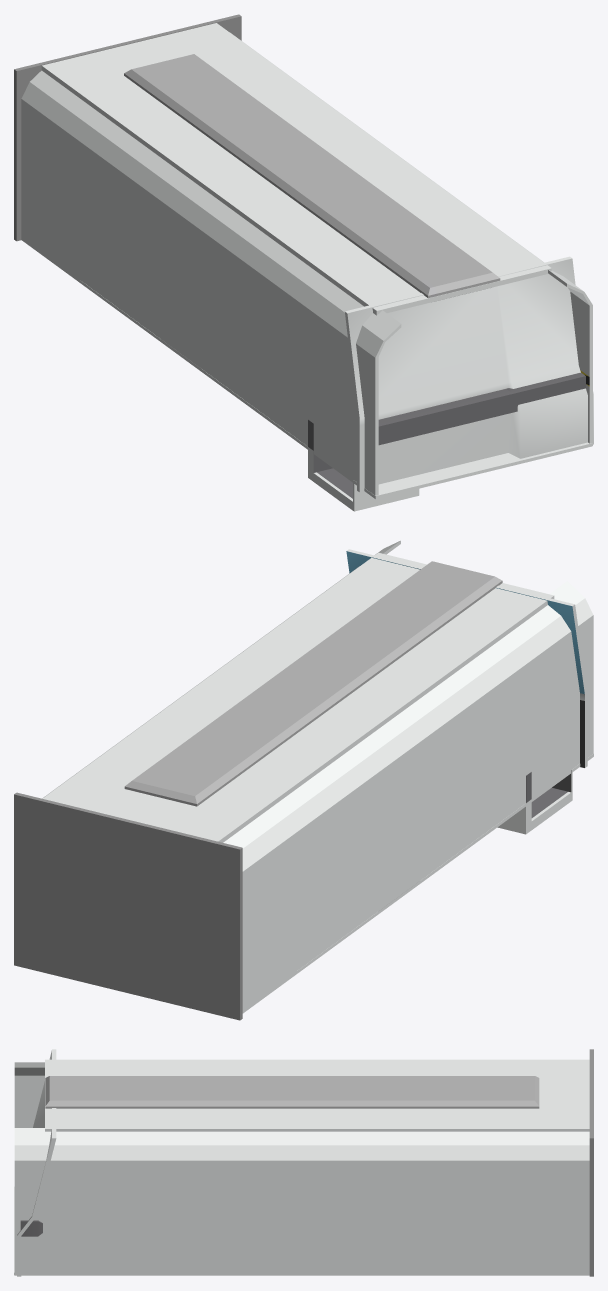
Rendered from map 6 - xe khach (1).fbx.
3 renders of one model, top to bottom at view 1: azimuth 30°, elevation 25°; view 2: azimuth 150°, elevation 25°; view 3: azimuth 270°, elevation 25°, orthographic. The views are drawn at different scales.
Visible parts, largest first — view 1: wall.001, tran_xe, wall_kinh, noc_xe, floor, wall, wall_2; view 2: wall.001, wall, tran_xe, noc_xe, floor, wall_kinh; view 3: wall_2, tran_xe, noc_xe, wall.001, wall_kinh, wall.
Part boxes in pixels (<box>): wall.001: <box>21,70,401,495</box>; tran_xe: <box>41,23,551,315</box>; wall_kinh: <box>345,256,593,492</box>; noc_xe: <box>124,54,500,298</box>; floor: <box>80,280,592,511</box>; wall: <box>14,14,241,241</box>; wall_2: <box>231,33,592,445</box>; wall.001: <box>223,581,593,1013</box>; wall: <box>14,792,242,1020</box>; tran_xe: <box>42,552,554,842</box>; noc_xe: <box>124,561,502,806</box>; floor: <box>297,753,593,973</box>; wall_kinh: <box>346,549,587,767</box>; wall_2: <box>14,1128,589,1275</box>; tran_xe: <box>45,1059,589,1131</box>; noc_xe: <box>45,1076,539,1108</box>; wall.001: <box>14,1062,44,1127</box>; wall_kinh: <box>17,1049,56,1276</box>; wall: <box>589,1049,593,1276</box>.
Size of the model in its own units: 72.56 by 63.04 by 199.
